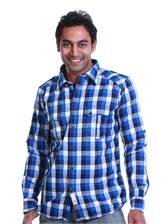clothoes: (18, 60, 150, 217)
